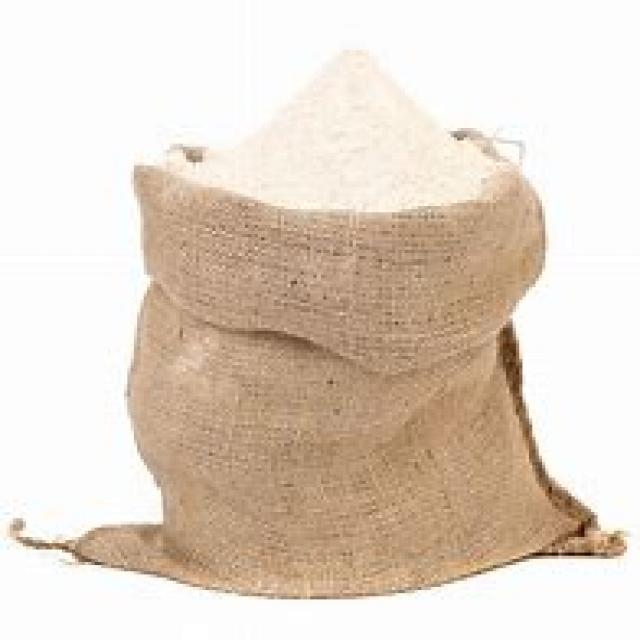gunny_bag: (26, 173, 627, 603)
